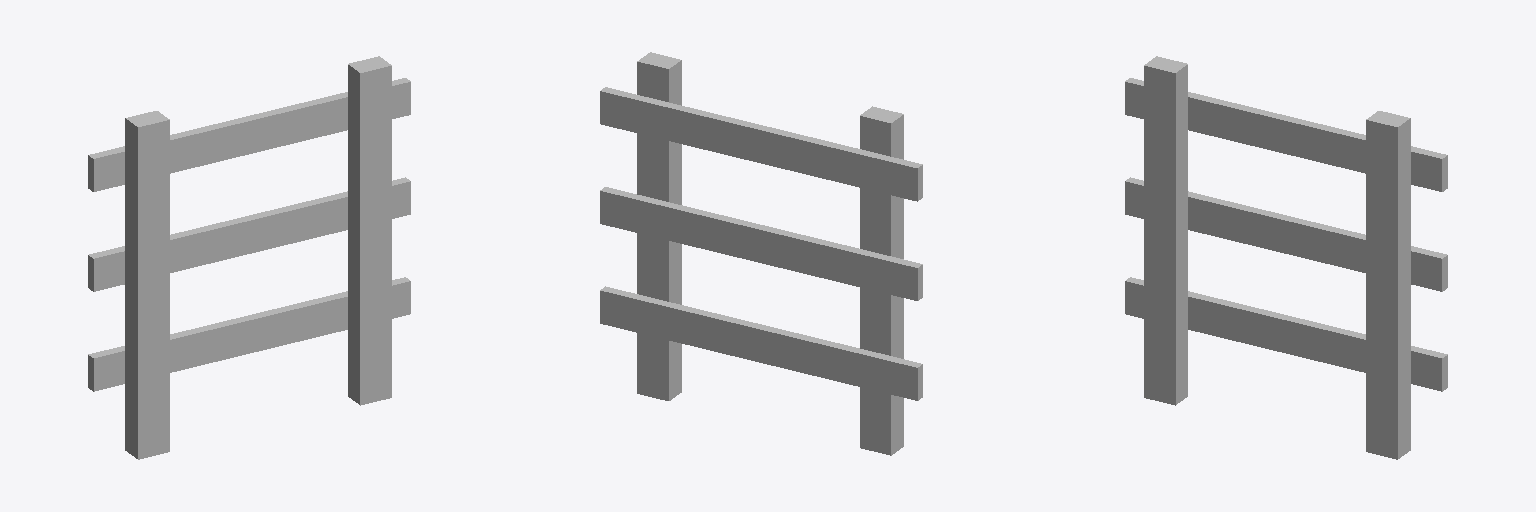
The model's file is woodfencez-.obj.
3 renders of one model, left to right at view 1: azimuth 30°, elevation 25°; view 2: azimuth 150°, elevation 25°; view 3: azimuth 330°, elevation 25°, orthographic.
Visible parts, largest first — view 1: bedx+.018; view 2: bedx+.018; view 3: bedx+.018.
Boxes of the visible parts, box(x1,y1,x2,y2) form: bedx+.018: box(88, 56, 410, 459); bedx+.018: box(600, 52, 922, 455); bedx+.018: box(1125, 56, 1447, 459).
Size of the model in its own units: 1 by 1 by 0.1.